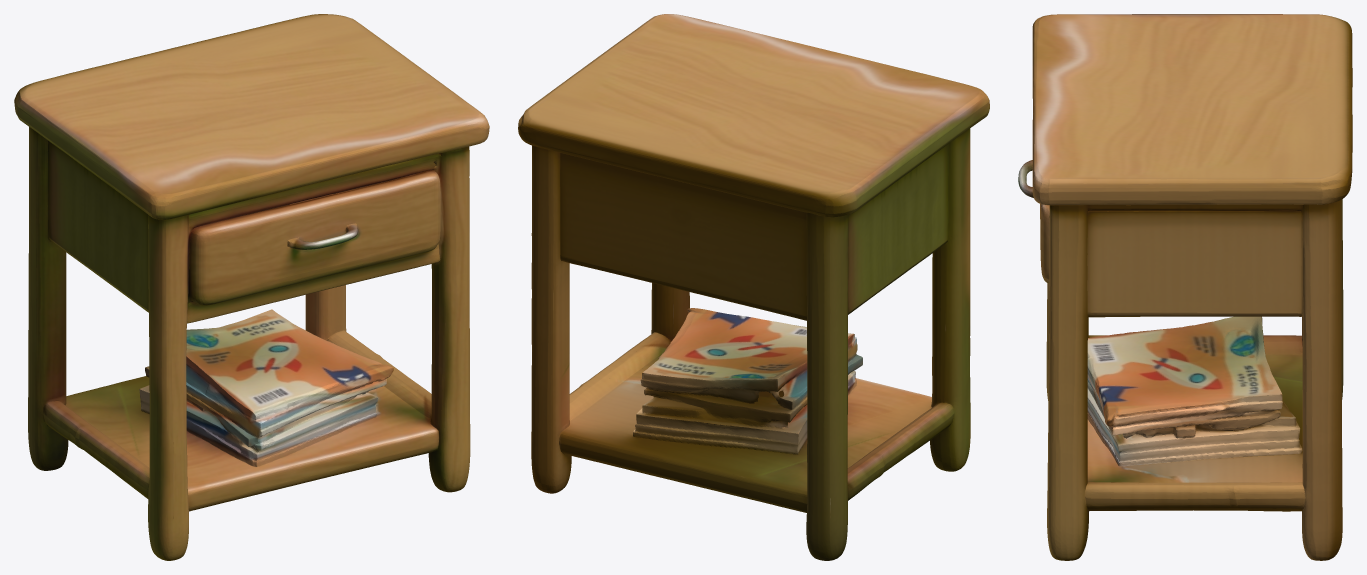
Rendered from side_table.glb.
3 renders of one model, left to right at view 1: azimuth 30°, elevation 25°; view 2: azimuth 150°, elevation 25°; view 3: azimuth 270°, elevation 25°, orthographic. The views are drawn at different scales.
Visible parts, largest first — view 1: geometry_0; view 2: geometry_0; view 3: geometry_0.
Part boxes in pixels (bbox=[...]): geometry_0: bbox=[14, 14, 489, 560]; geometry_0: bbox=[518, 14, 989, 560]; geometry_0: bbox=[1018, 14, 1352, 560].
Size of the model in its own units: 0.9425 by 1 by 0.7783.
Materials: 1 (1 with a texture image).
